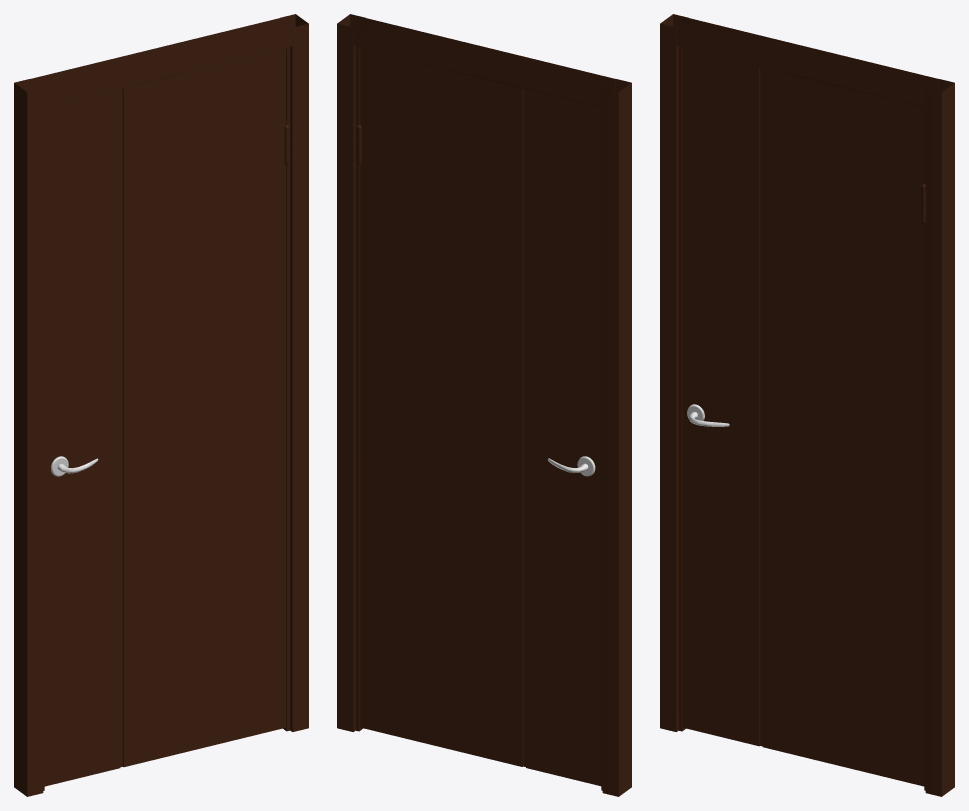
Rendered from door7.glb.
3 views of the same model, side by side, from view 1: azimuth 30°, elevation 25°; view 2: azimuth 150°, elevation 25°; view 3: azimuth 330°, elevation 25° (orthographic).
Visible parts, largest first — view 1: Door1; view 2: Door1; view 3: Door1.
Part boxes in pixels (box(x1,y1,x2,y2)): Door1: box(14, 14, 308, 796); Door1: box(337, 14, 631, 796); Door1: box(660, 14, 954, 796).
Bounding box in the file's own units: 0.8967 × 2.14 × 0.1494.
